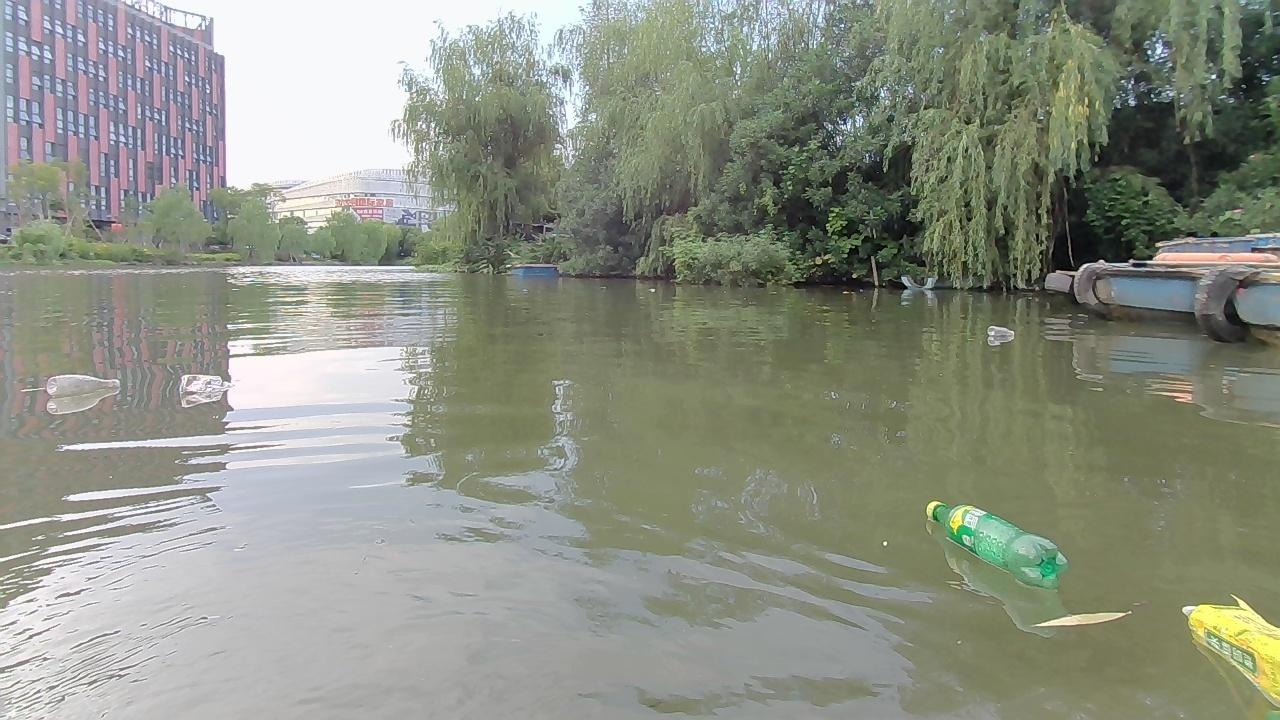bottle: (921, 495, 1073, 590), (1177, 592, 1279, 703), (43, 371, 121, 392), (180, 376, 227, 396), (986, 321, 1015, 345)
